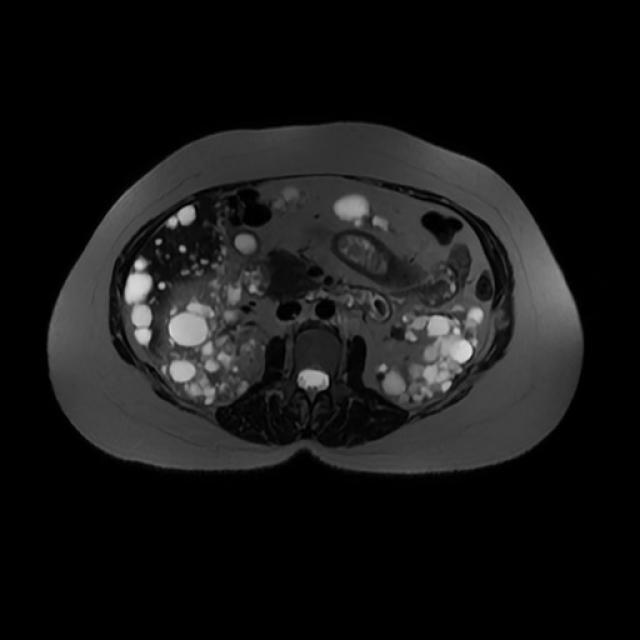sag: (164, 276, 269, 400)
sol: (381, 303, 483, 402)
